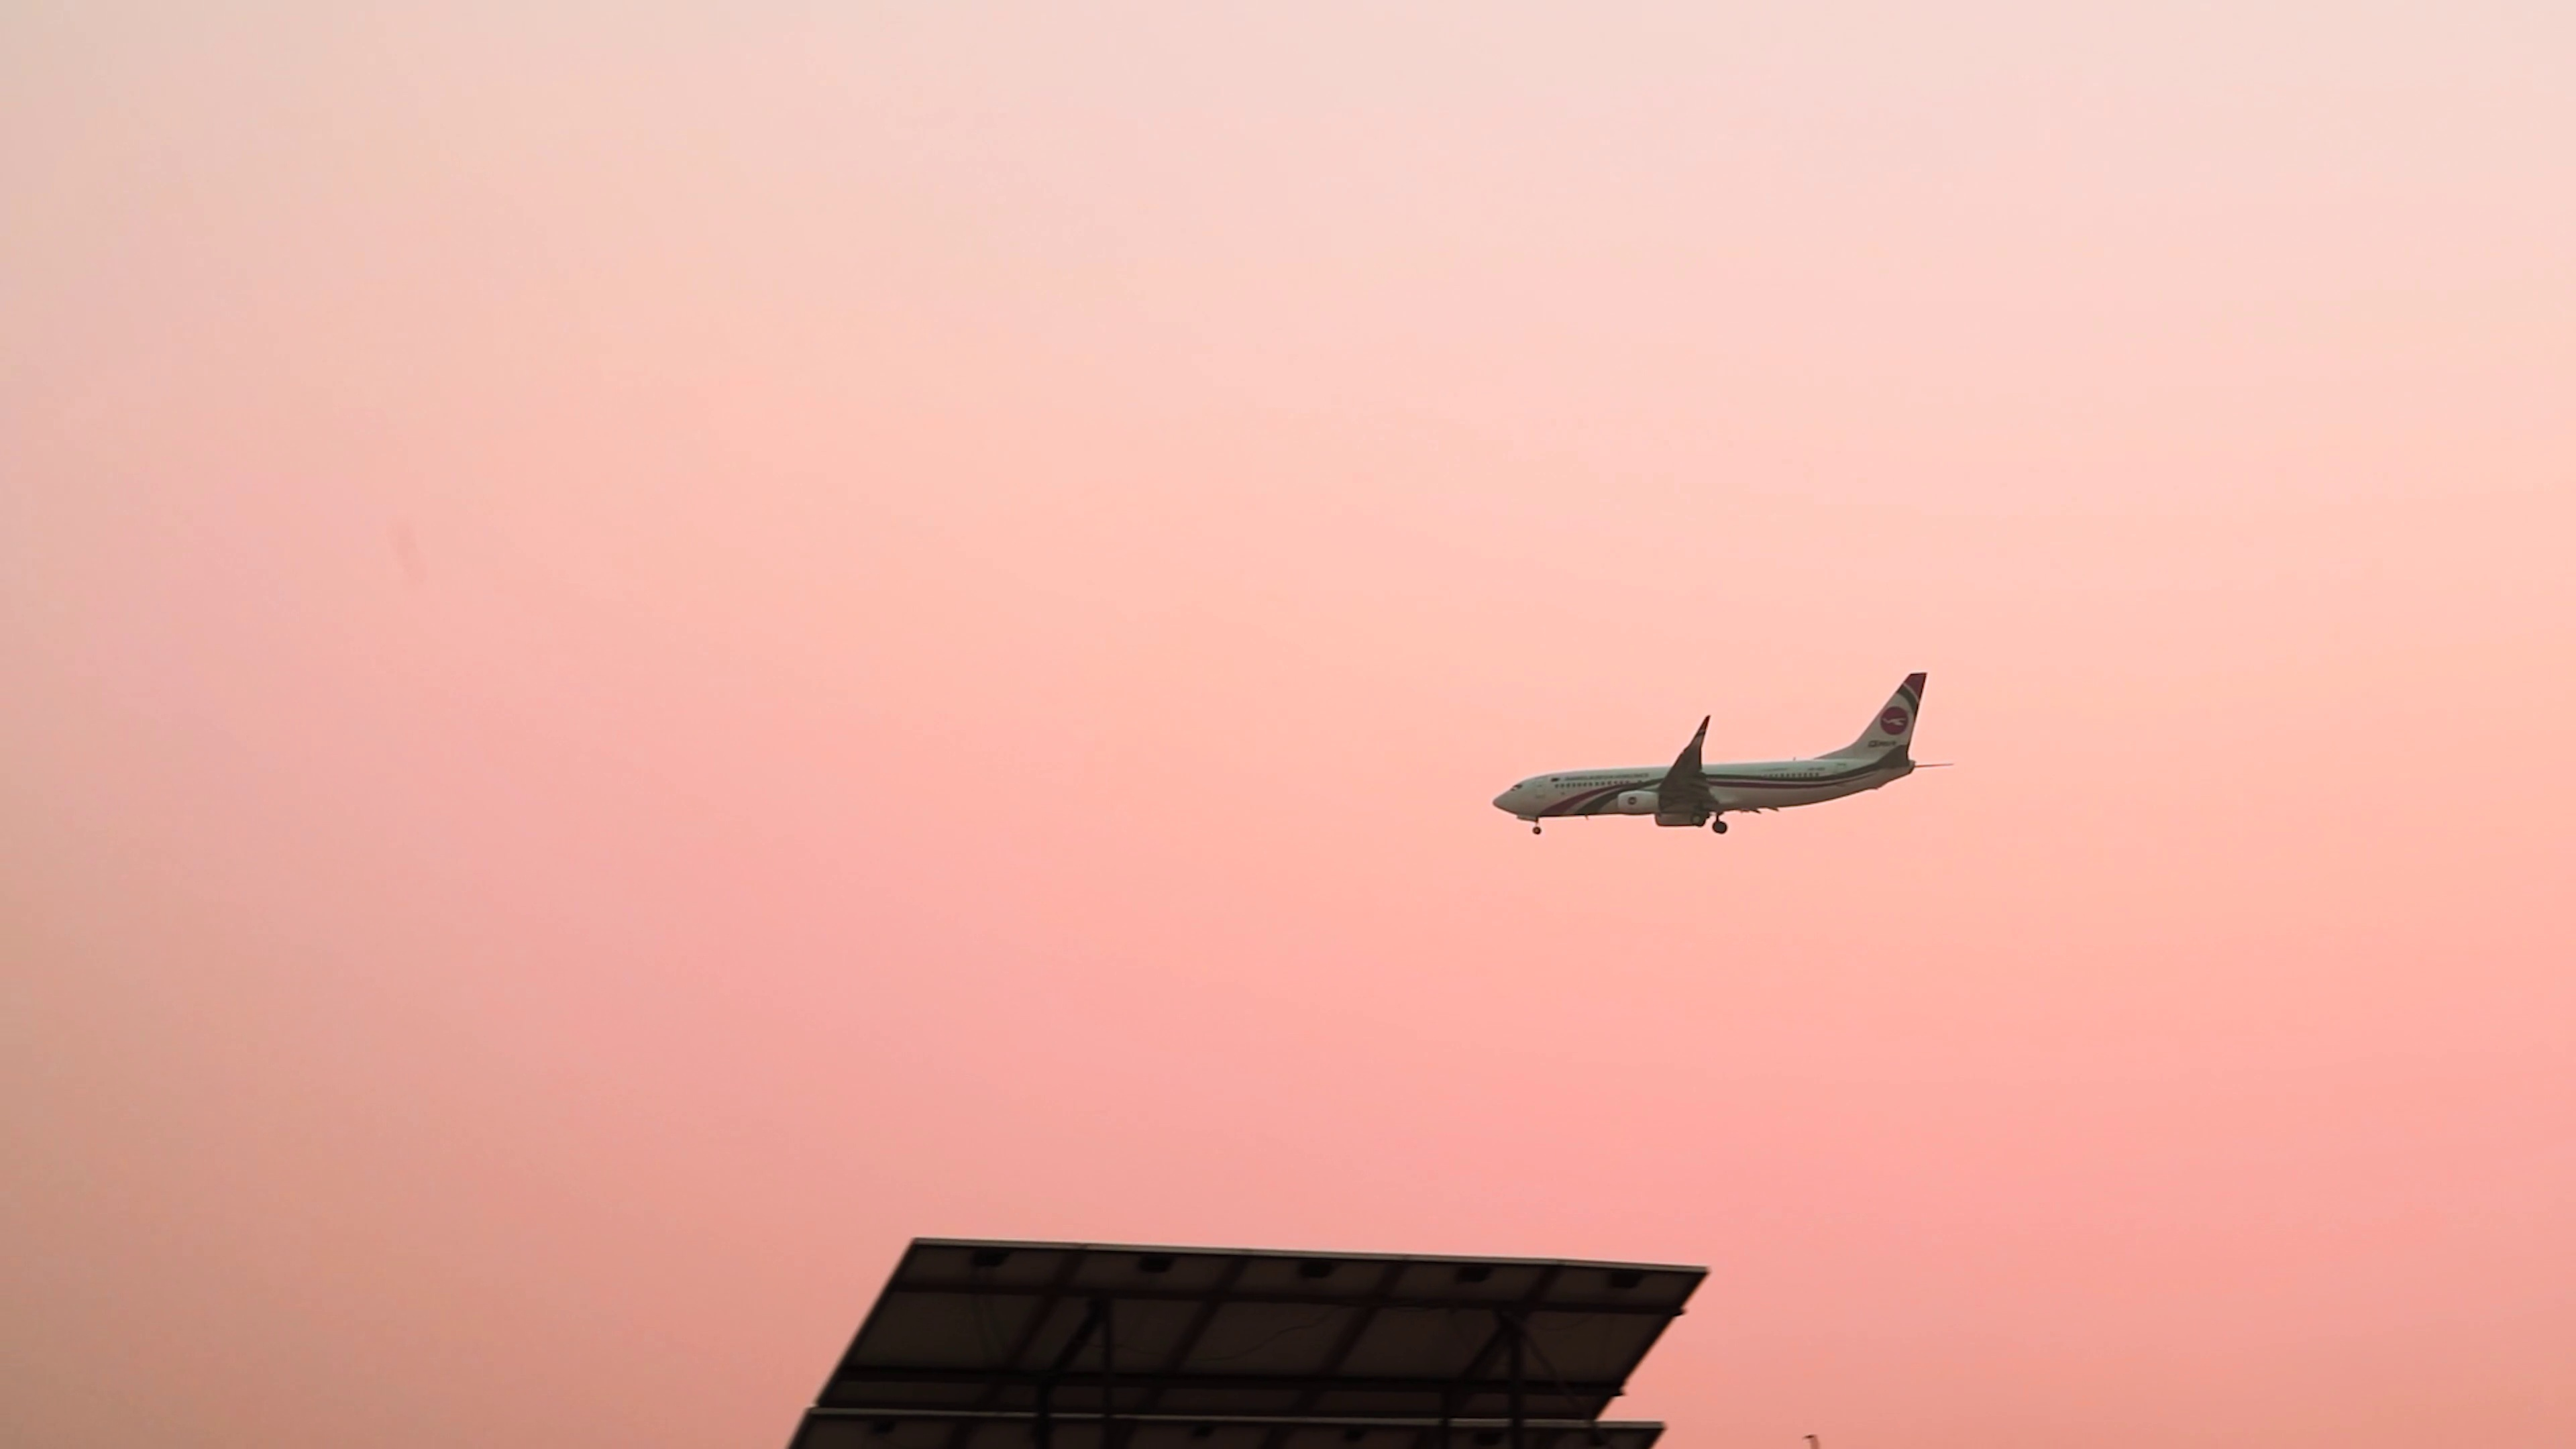plane: (1491, 672, 1953, 835)
